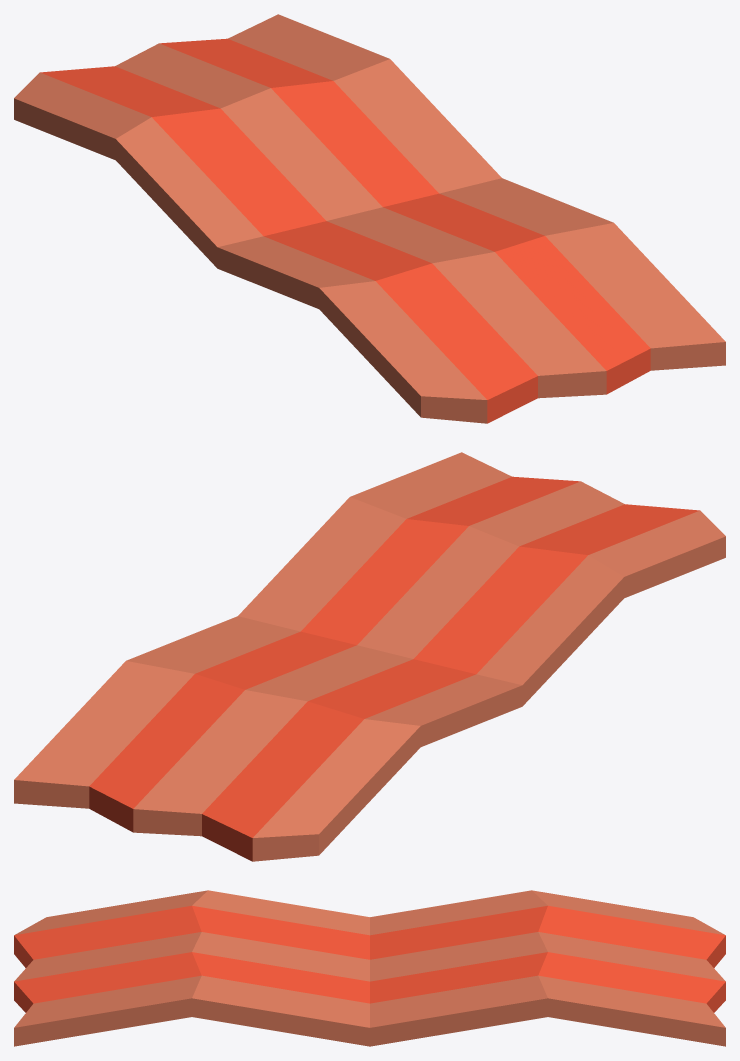
The model's file is FBX_Bacon_v2.fbx.
3 views of the same model, one above another, from view 1: azimuth 30°, elevation 25°; view 2: azimuth 150°, elevation 25°; view 3: azimuth 270°, elevation 25° (orthographic). The views are drawn at different scales.
Visible parts, largest first — view 1: bacon; view 2: bacon; view 3: bacon.
Part boxes in pixels (bbox=[...]): bacon: bbox=[14, 14, 725, 423]; bacon: bbox=[14, 452, 725, 861]; bacon: bbox=[14, 890, 725, 1046].
Size of the model in its own units: 101 by 20.68 by 276.
